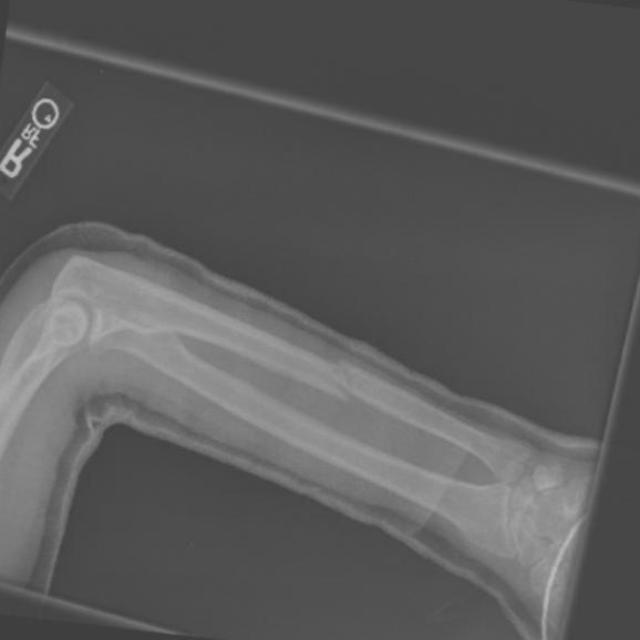bone: (311, 351, 380, 418)
